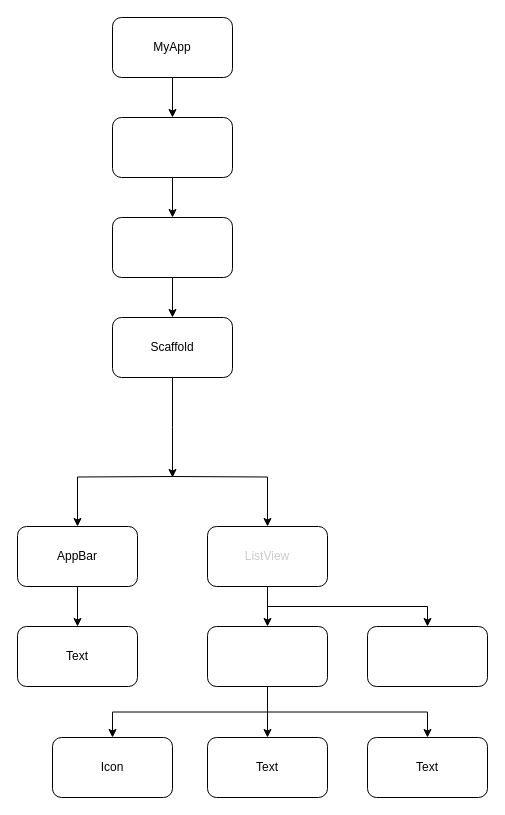
Image size: 505x815. Some labels were removed from this diagram. The centre of each missing label's shape, as x and y in pixels:
"ListTile" belongs at pixel 267 656.
"MaterialApp" belongs at pixel 172 147.
"MyHomePage" belongs at pixel 172 247.
"SizedBox" belongs at pixel 427 656.
